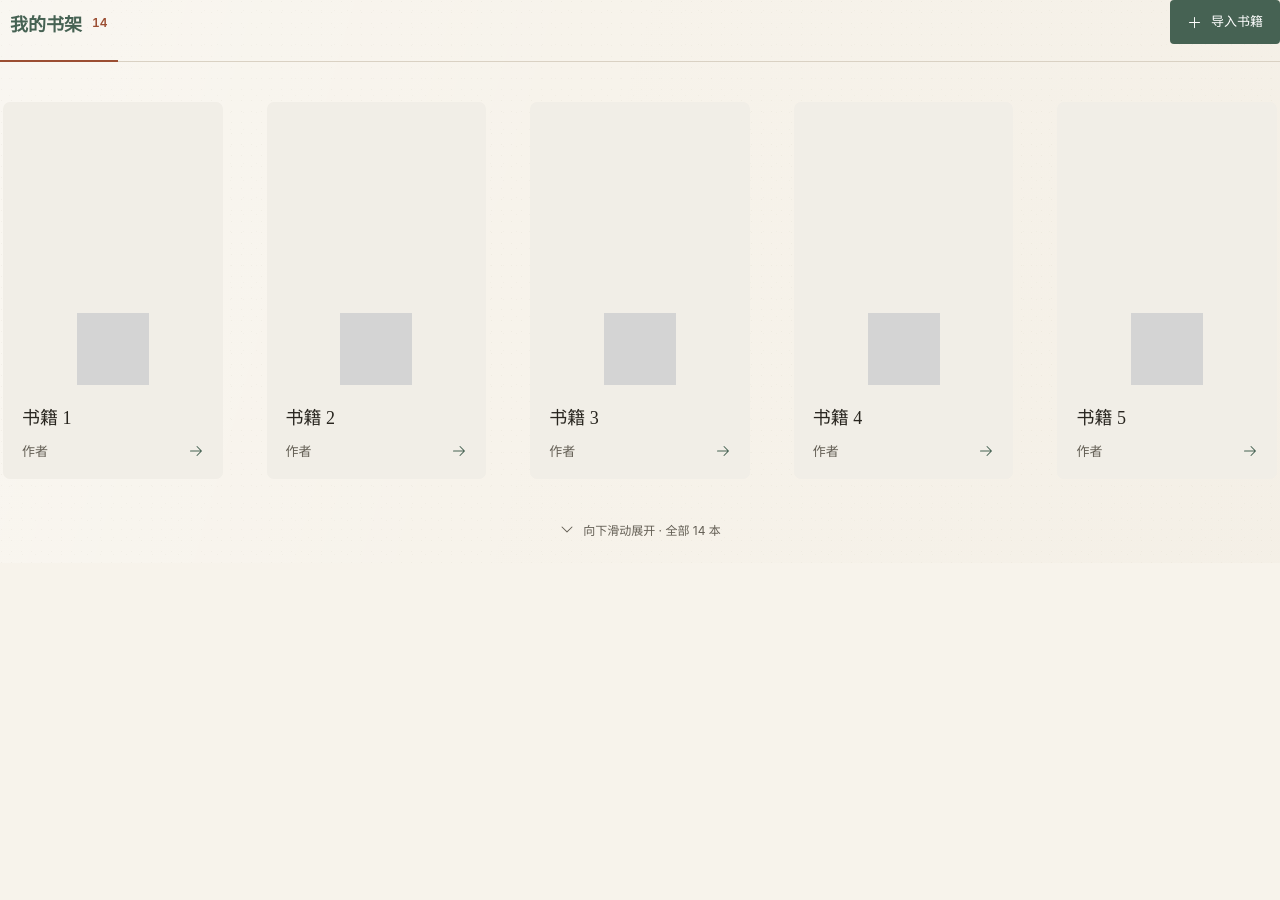
Test: AnalyzedBookShelf › supports an explicit expand/collapse button and Escape
Click the button with aria-label "展开书架" at [640, 529], box left=543, top=507, right=737, bottom=551
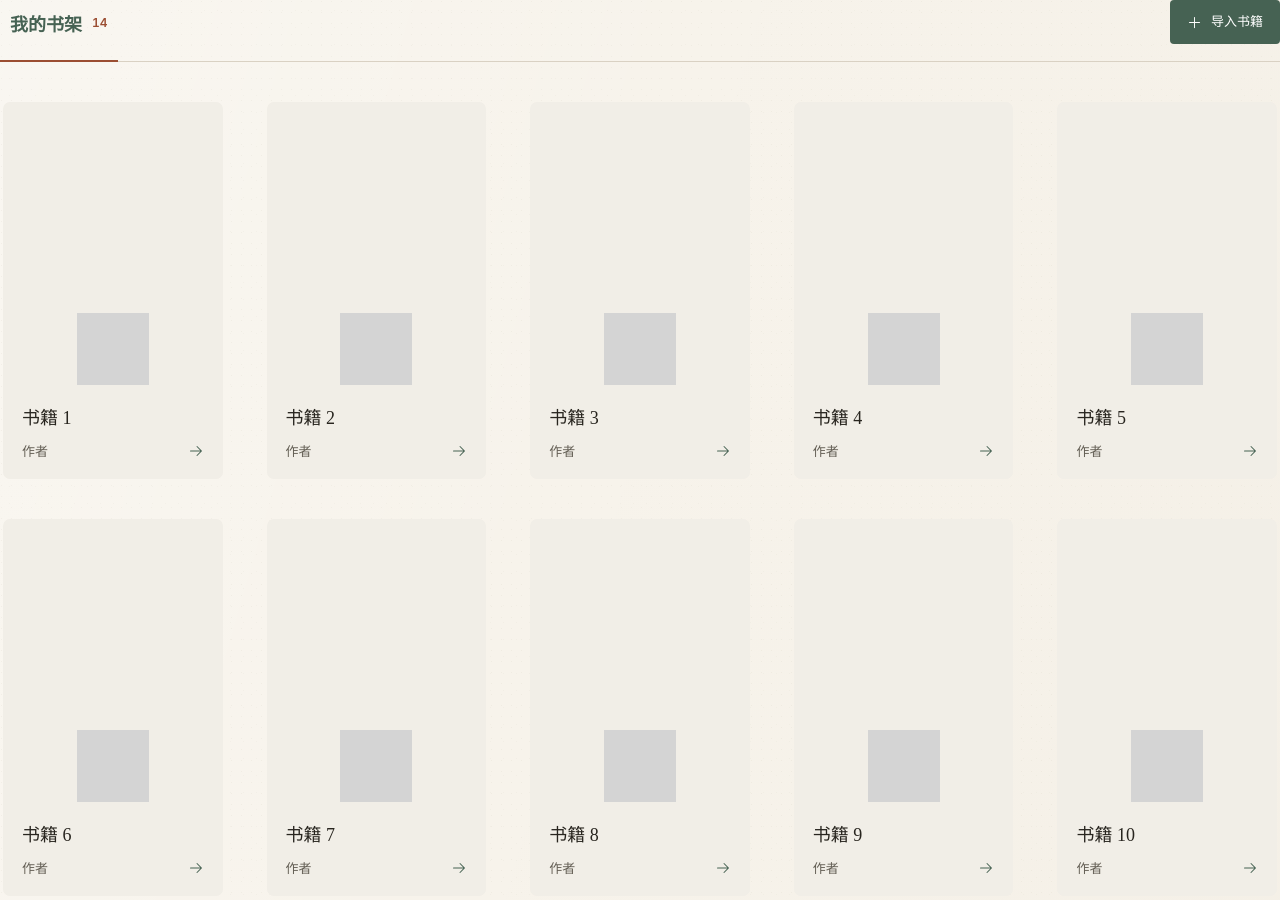
Expected: the number of links is 14
Press Escape
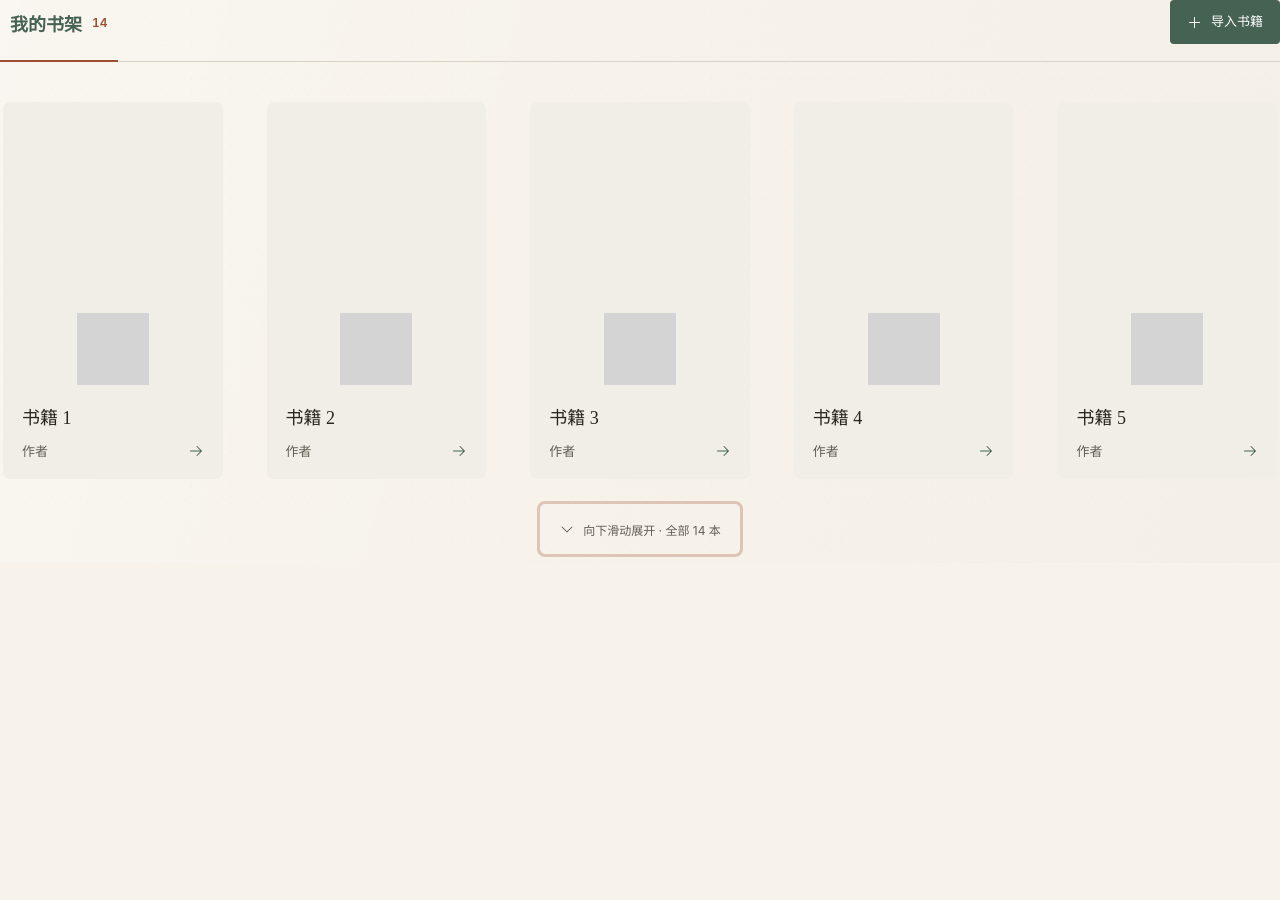
Expected: the number of links is 5, left=3, top=102, right=223, bottom=479; left=267, top=102, right=486, bottom=479; left=530, top=102, right=750, bottom=479; left=794, top=102, right=1013, bottom=479; left=1057, top=102, right=1277, bottom=479
Expected: the button with aria-label "展开书架" is collapsed
Click the button with aria-label "展开书架" at [640, 529], box left=543, top=507, right=737, bottom=551
(page scrolled)
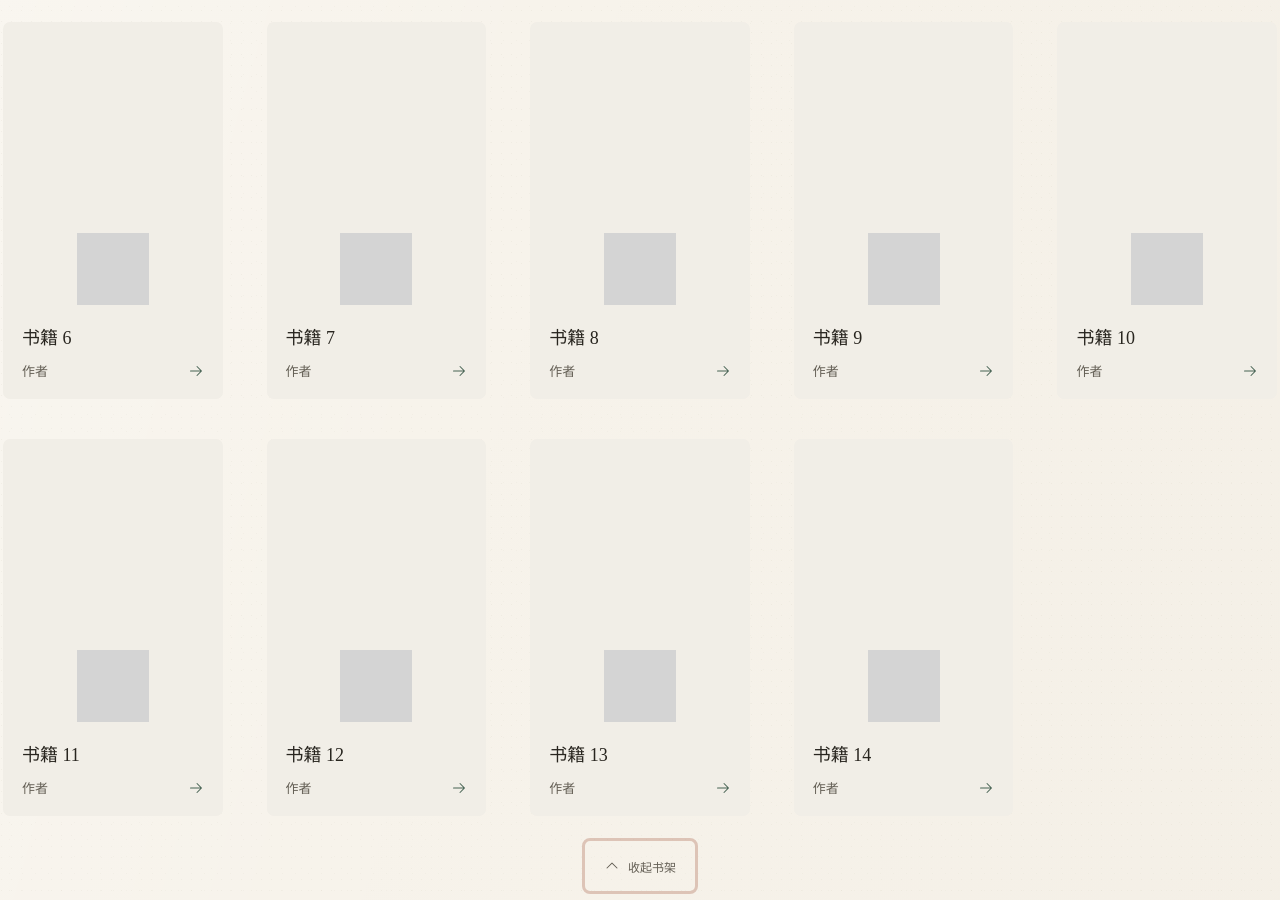
Click the button "收起书架" at [640, 866], box left=588, top=844, right=692, bottom=888
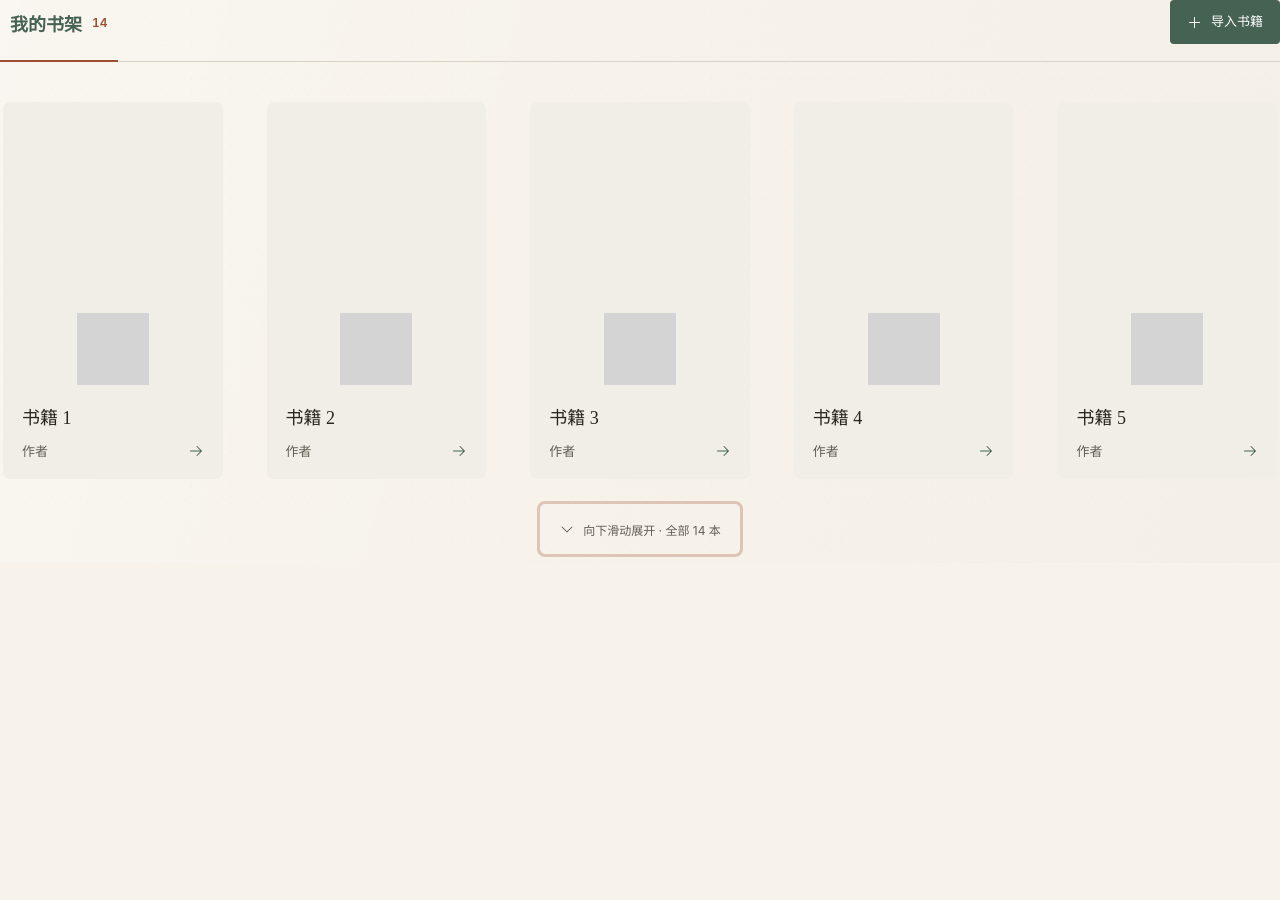
Expected: the number of links is 5, left=3, top=102, right=223, bottom=479; left=267, top=102, right=486, bottom=479; left=530, top=102, right=750, bottom=479; left=794, top=102, right=1013, bottom=479; left=1057, top=102, right=1277, bottom=479
